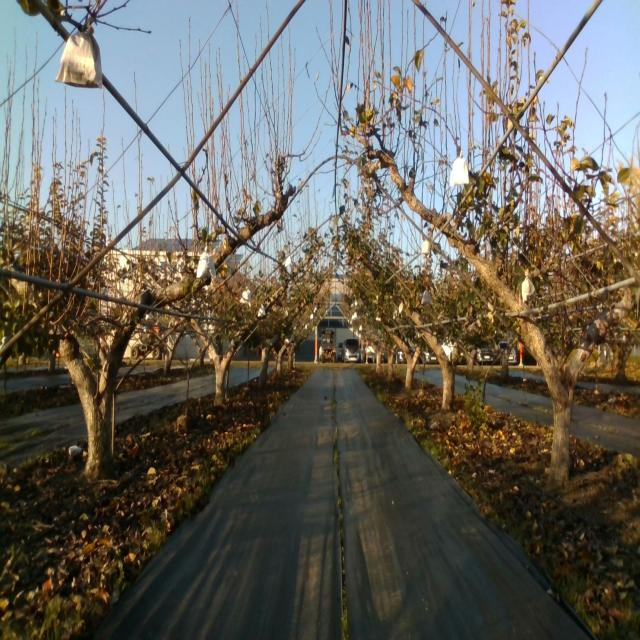pearbags: (52, 26, 103, 90), (450, 147, 470, 185), (196, 245, 216, 280), (521, 269, 536, 302), (240, 284, 252, 306)
